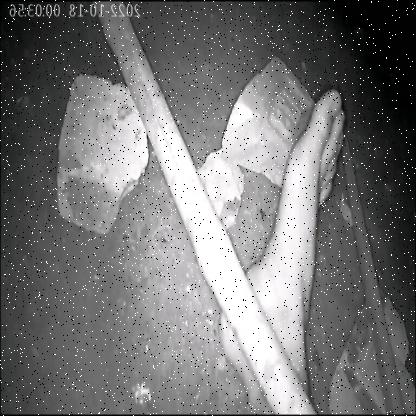leg: (214, 70, 358, 416)
